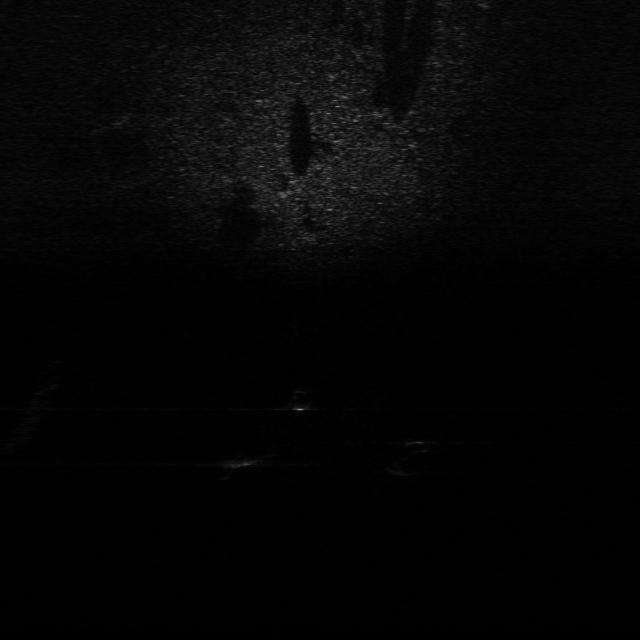ball: (284, 384, 320, 413)
square cage: (213, 448, 271, 472)
tyre: (382, 435, 433, 477)
